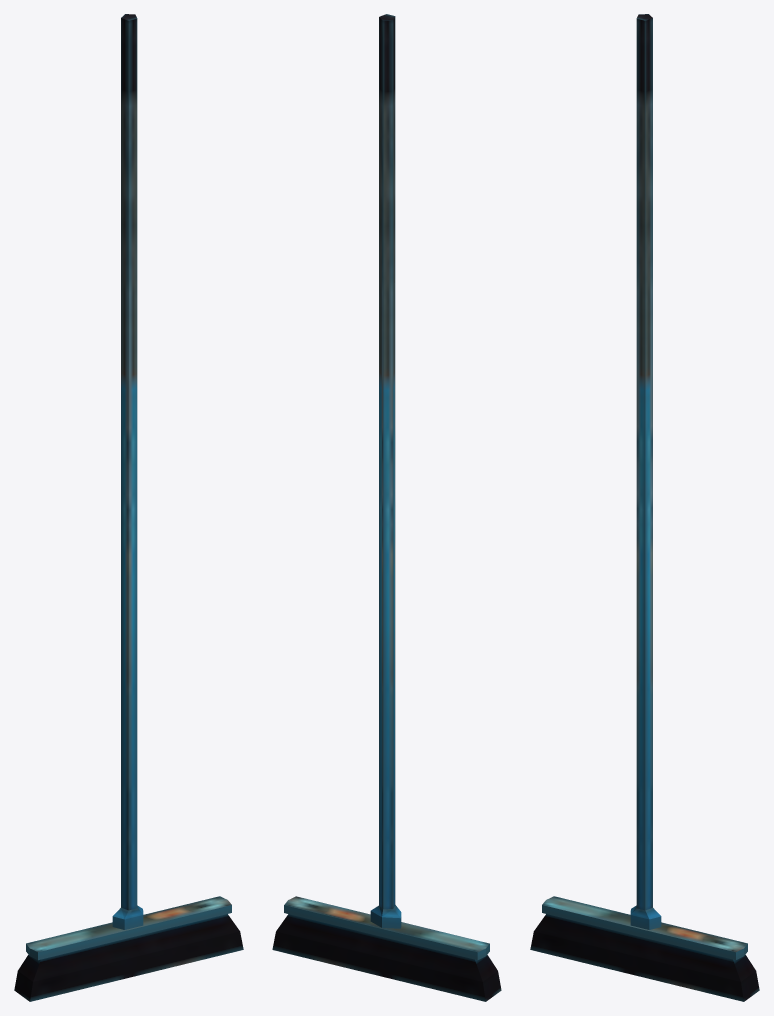
The model's file is Broom01.obj.
3 views of the same model, side by side, from view 1: azimuth 30°, elevation 25°; view 2: azimuth 150°, elevation 25°; view 3: azimuth 330°, elevation 25° (orthographic).
Visible parts, largest first — view 1: Broom01; view 2: Broom01; view 3: Broom01.
Part boxes in pixels (x1,y1,x2,y2): Broom01: [14, 14, 243, 1001]; Broom01: [272, 14, 501, 1001]; Broom01: [530, 14, 759, 1001].
Size of the model in its own units: 0.5865 by 2.5 by 0.0747.
